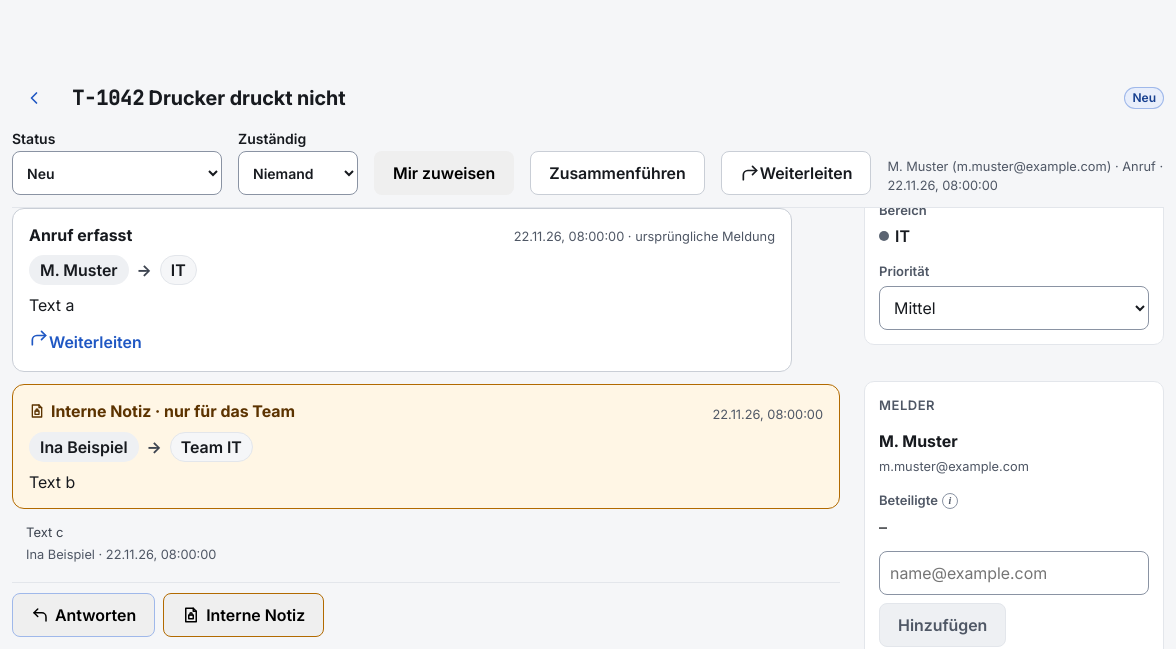
Test case: TicketPage › fragt beim Wechsel auf Gelöst nach der Lösung
The image size is (1176, 649).
Check: the text "Drucker druckt nicht" is shown, box [149, 86, 346, 110]
Check: the element "Lösungsart" is not shown
Select "Gelöst" in the dropdown labelled "Status" at (117, 173), box [12, 151, 222, 195]
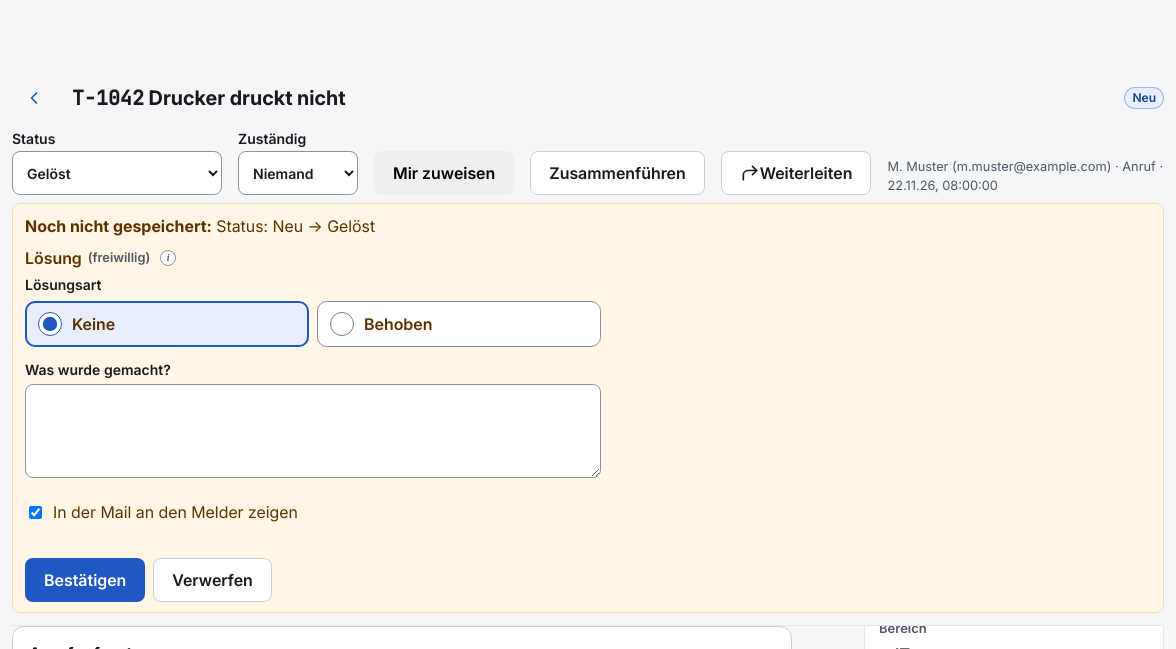
Click the radio button labelled "Behoben" at (342, 324), box [330, 312, 354, 336]
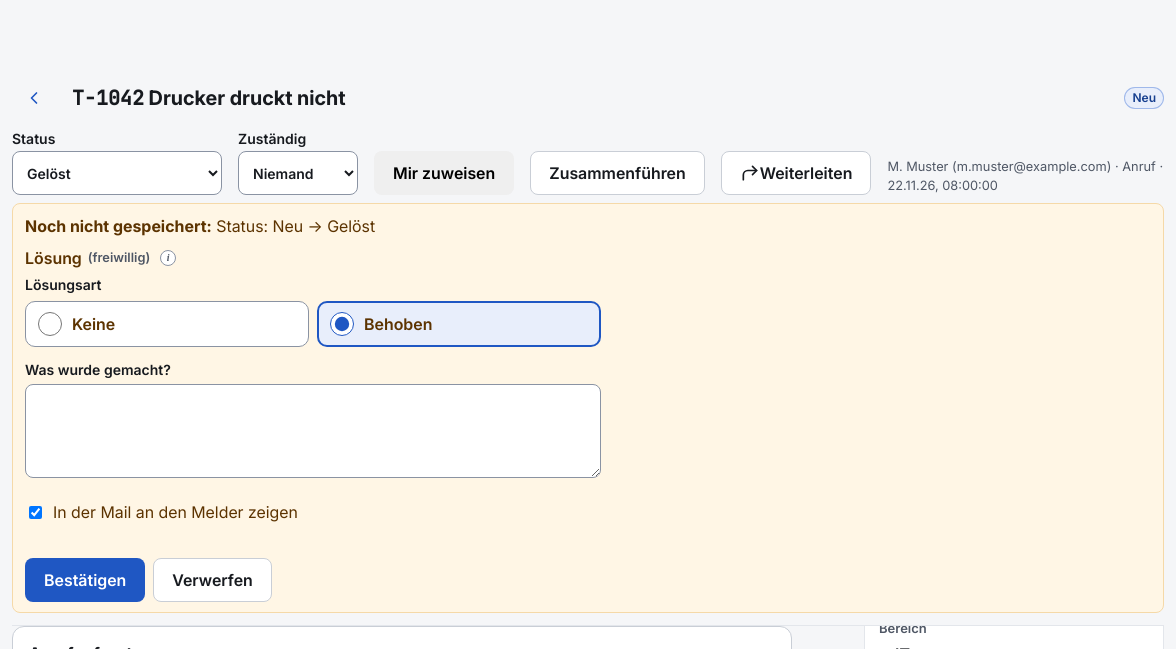
Type " Neu gestartet. " into the text box labelled "Was wurde gemacht?" at (313, 431), box [25, 384, 601, 478]
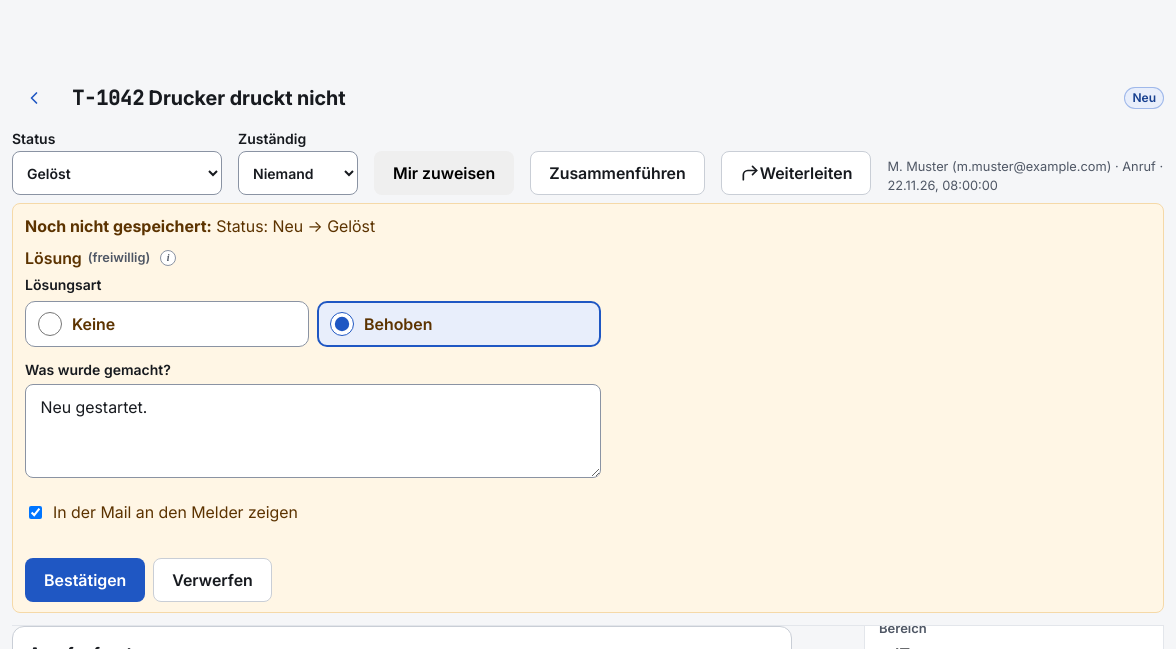
Click the checkbox labelled "In der Mail an den Melder zeigen" at (36, 512), box [29, 506, 42, 518]
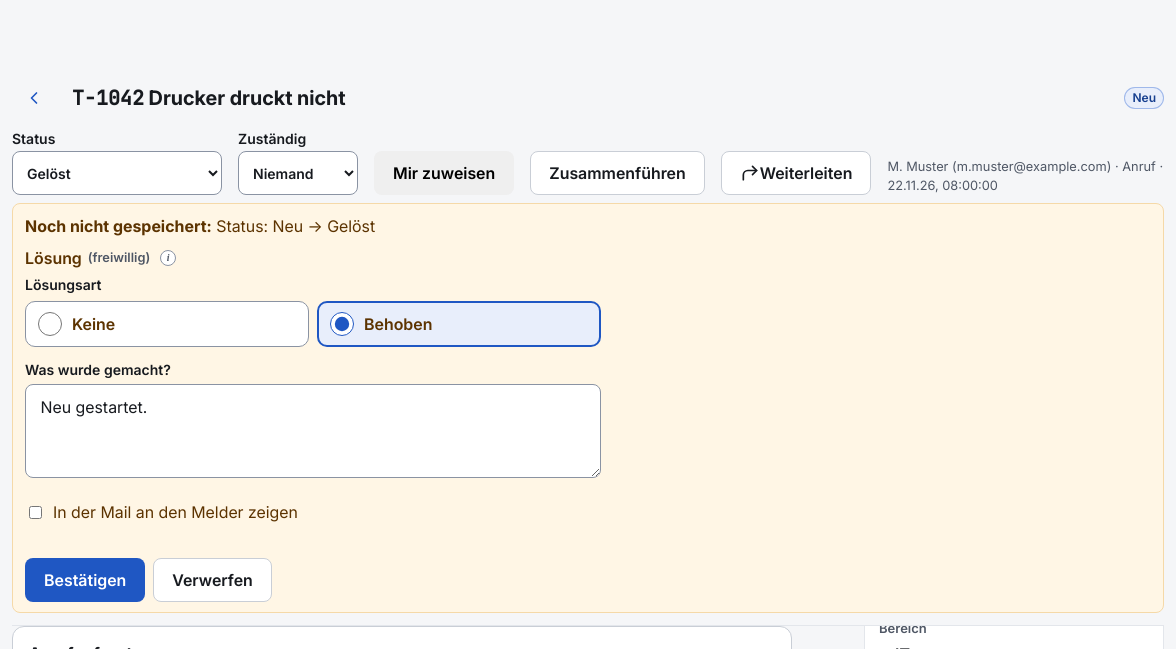
Click the button "Bestätigen" at (85, 580), box [25, 558, 145, 602]
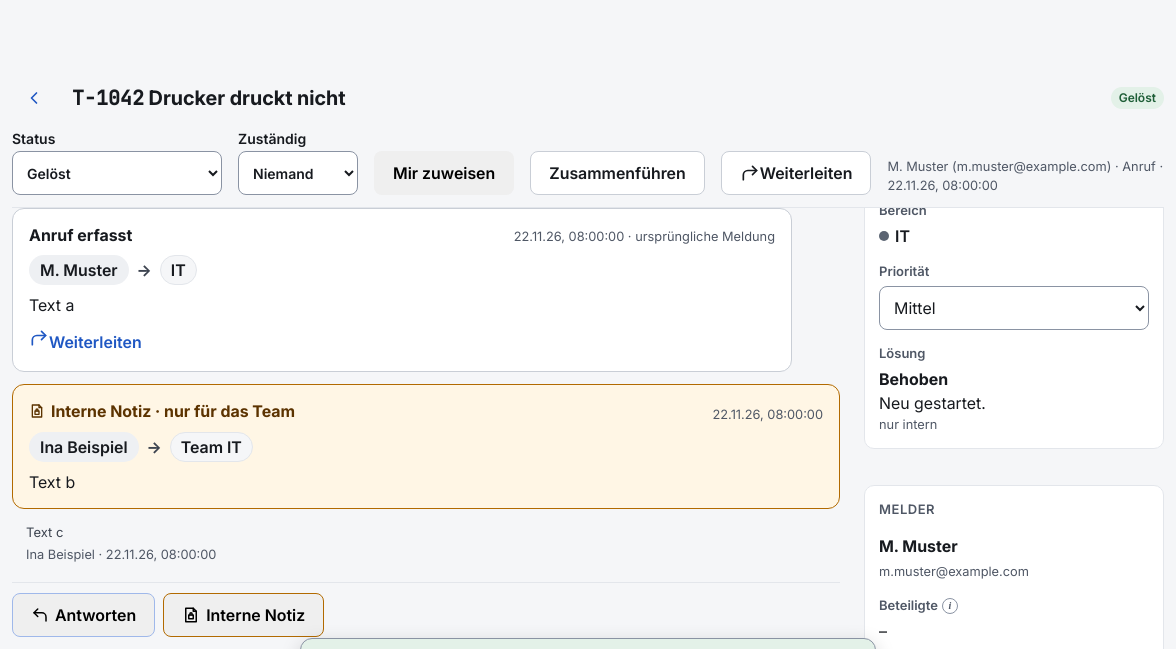
Check: the text "nur intern" is shown, box [879, 417, 937, 432]
